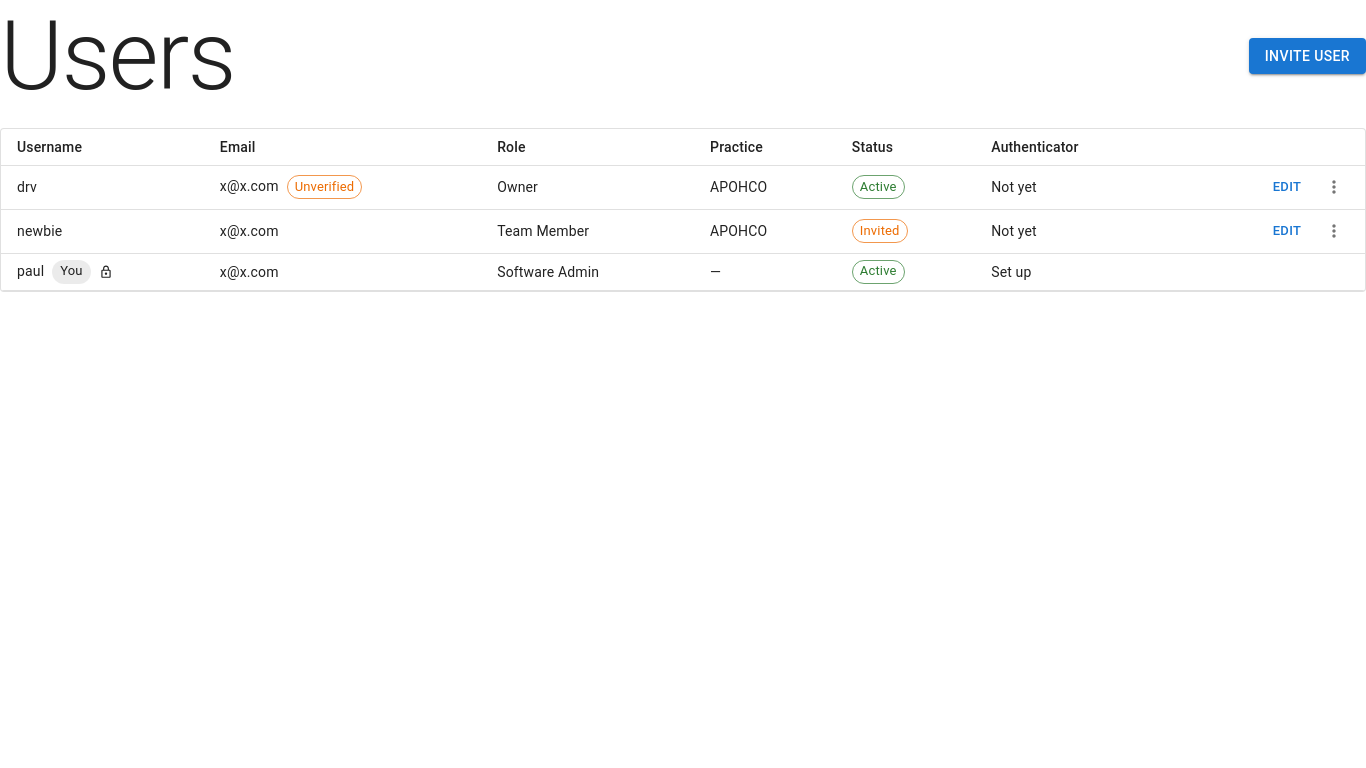
Scenario: UserManagement page › actions ask for confirmation before running
The width and height of the screenshot is (1366, 768).
Expected: the text "drv" is shown, top-left (1, 166), bottom-right (204, 209)
Click the button named "More actions for drv": (1334, 187) top-left (1319, 172), bottom-right (1349, 202)
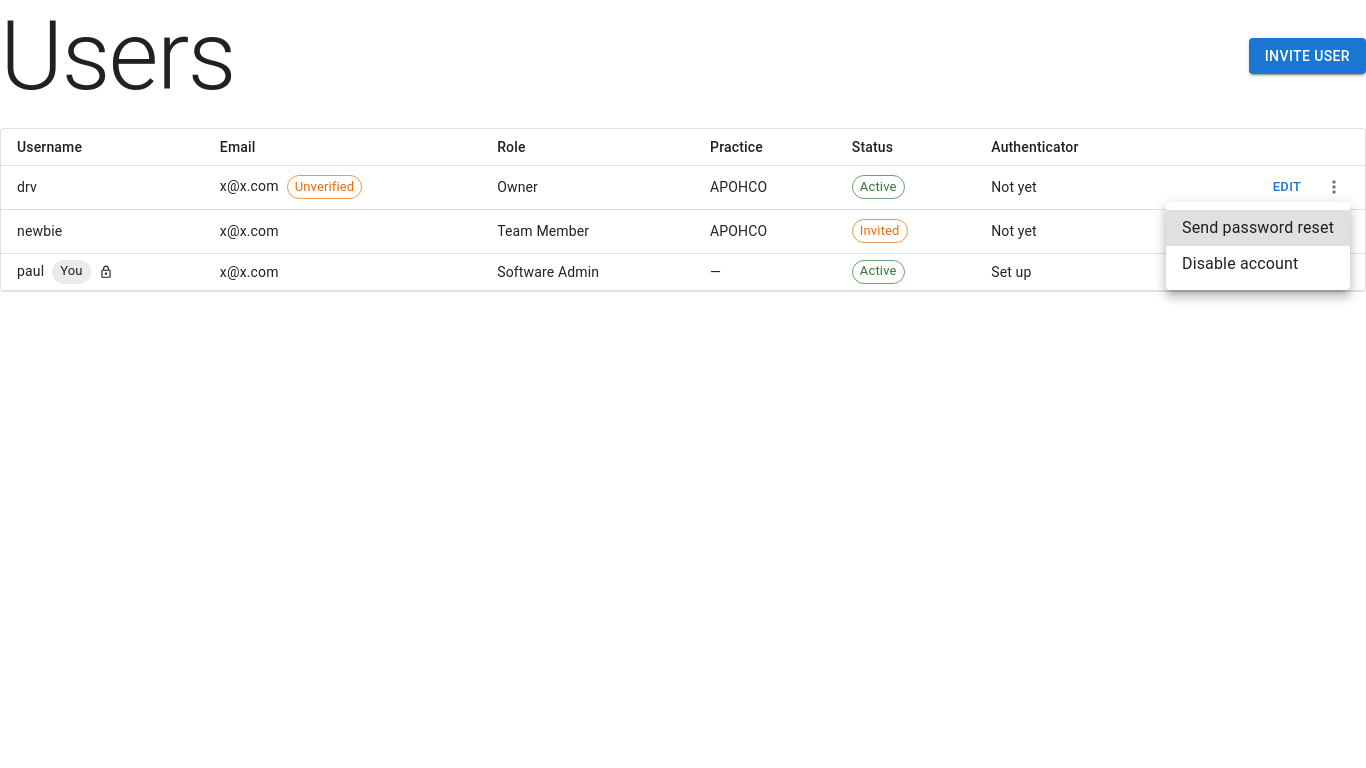
Click the menu item "Disable account": (1240, 264) top-left (1182, 254), bottom-right (1298, 273)
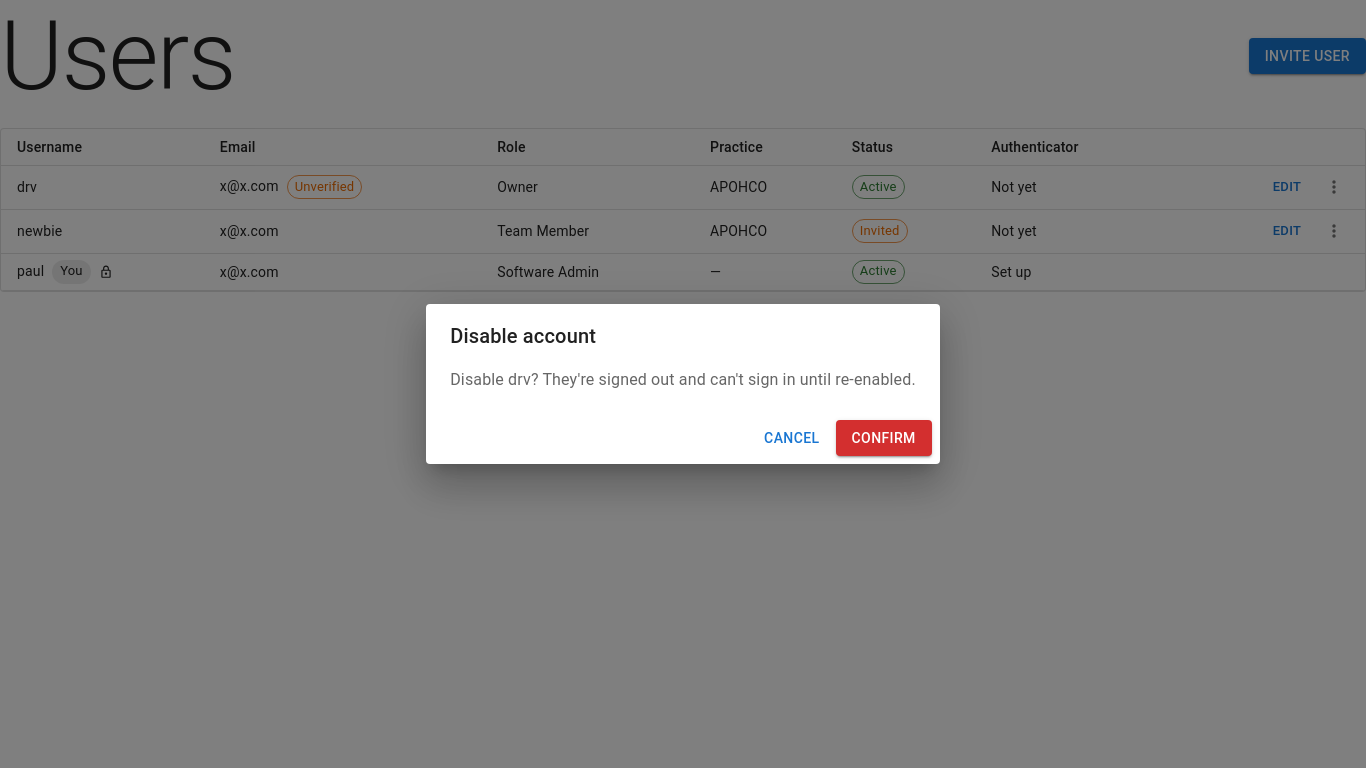
Expected: the text "Disable drv?" is shown, top-left (450, 370), bottom-right (916, 389)
Click the button "Confirm": (884, 438) top-left (836, 420), bottom-right (932, 456)
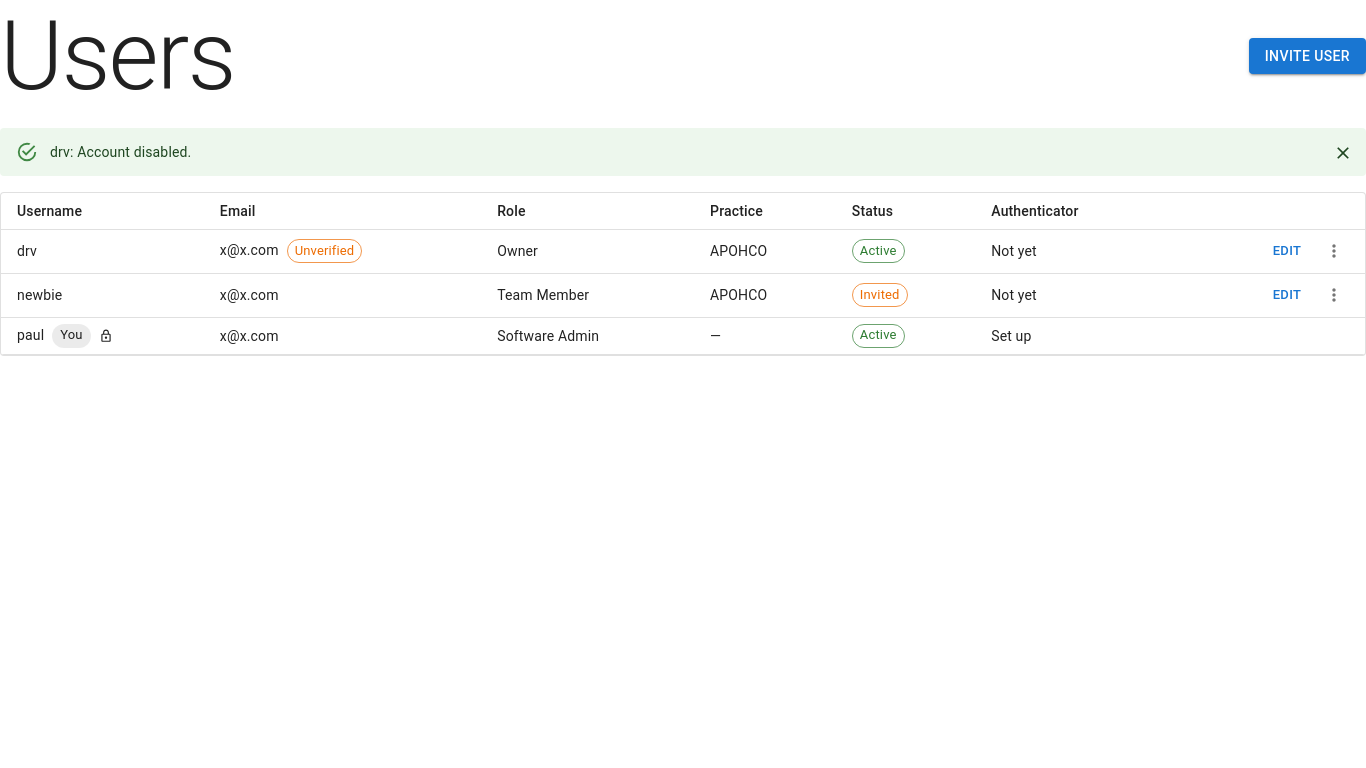
Expected: the text "drv: Account disabled." is shown, top-left (50, 144), bottom-right (191, 160)
